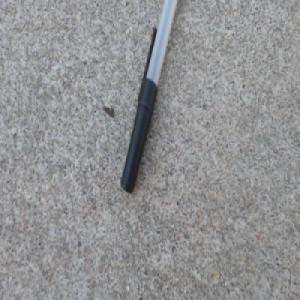Pen: (119, 0, 178, 195)
